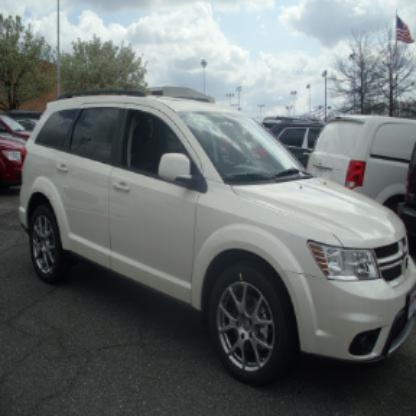Vehicle: (18, 89, 415, 387)
